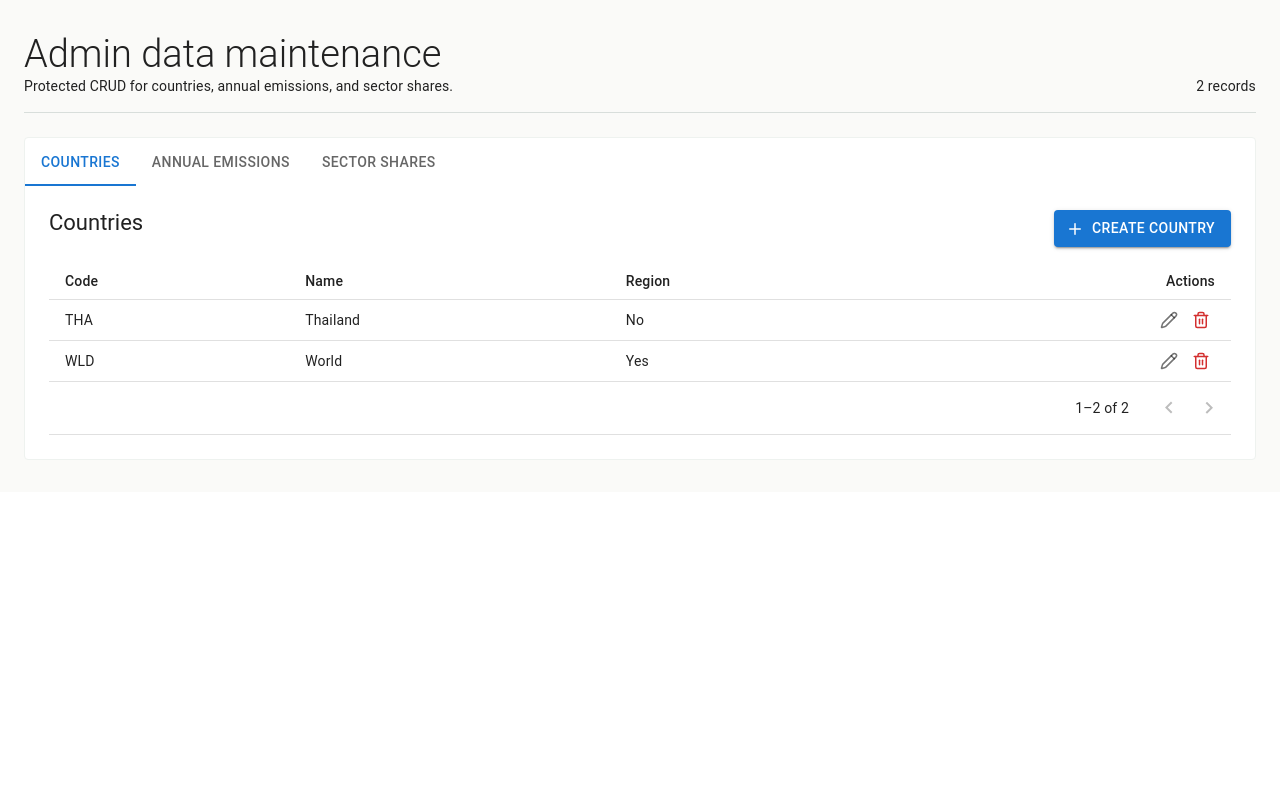
it: AdminPageClient › shows shared API error codes when mutations fail
Expected: the text "Thailand" is shown, [289,299,610,340]
Click the button "Create country".
click(1142, 229)  # box [1054,210,1231,247]
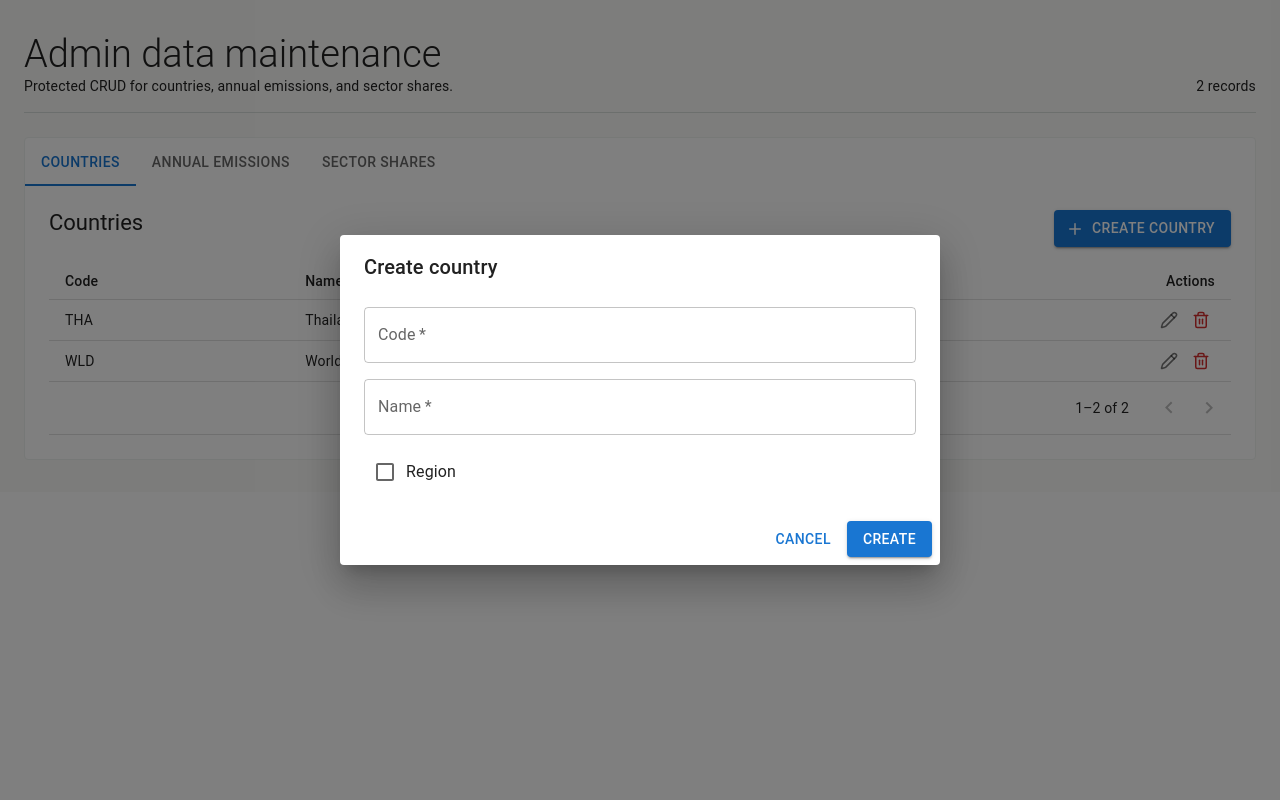
Type "THA" into the field labelled "Code *".
click(640, 335); type("THA")  # box [364,307,916,363]
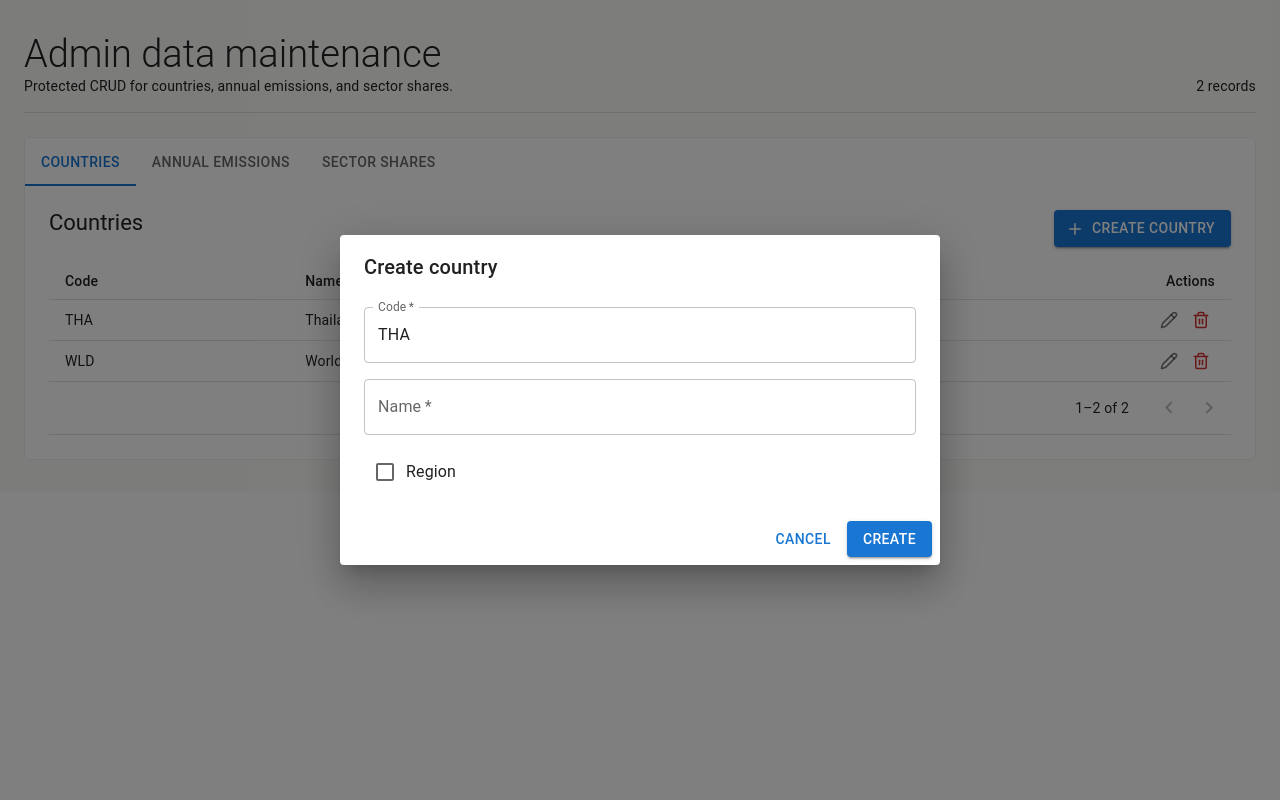
Type "Thailand" into the field labelled "Name *".
click(640, 407); type("Thailand")  # box [364,379,916,435]
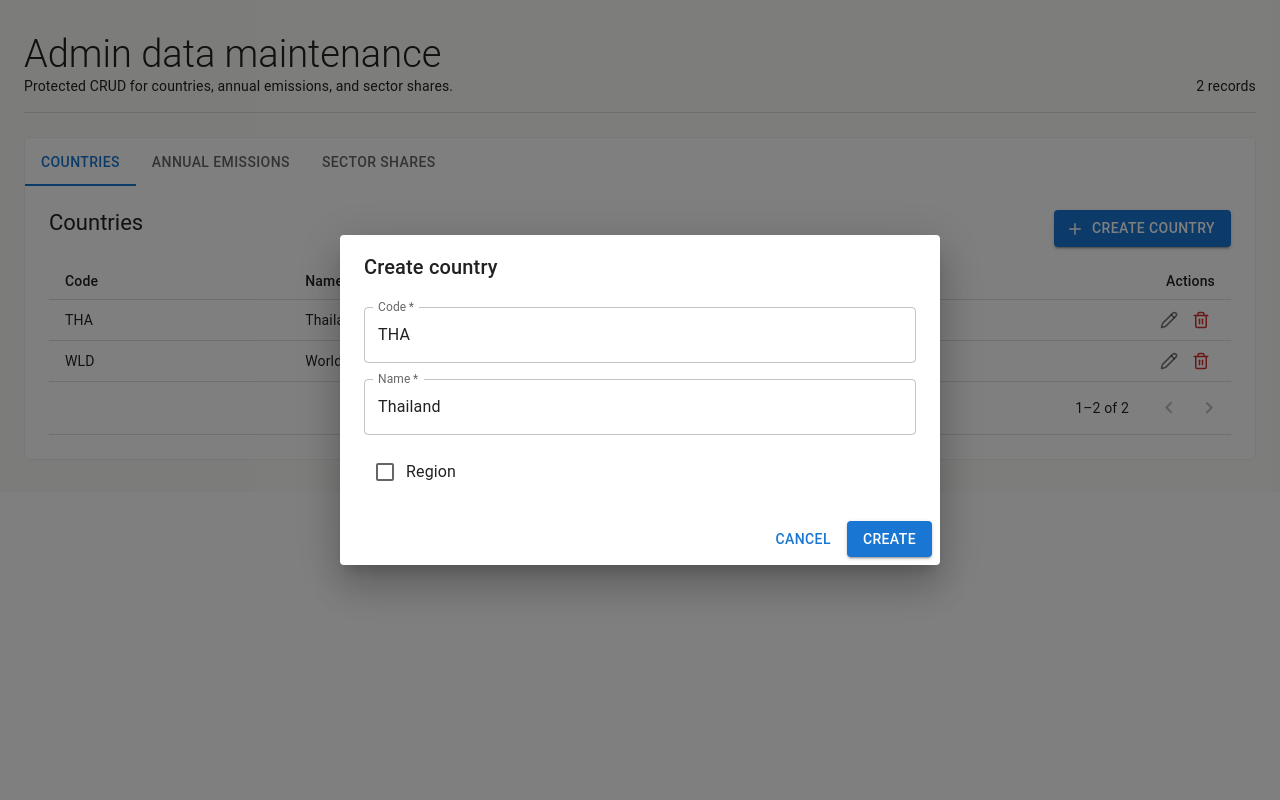
Click the button "Create".
click(889, 539)  # box [847,521,932,557]
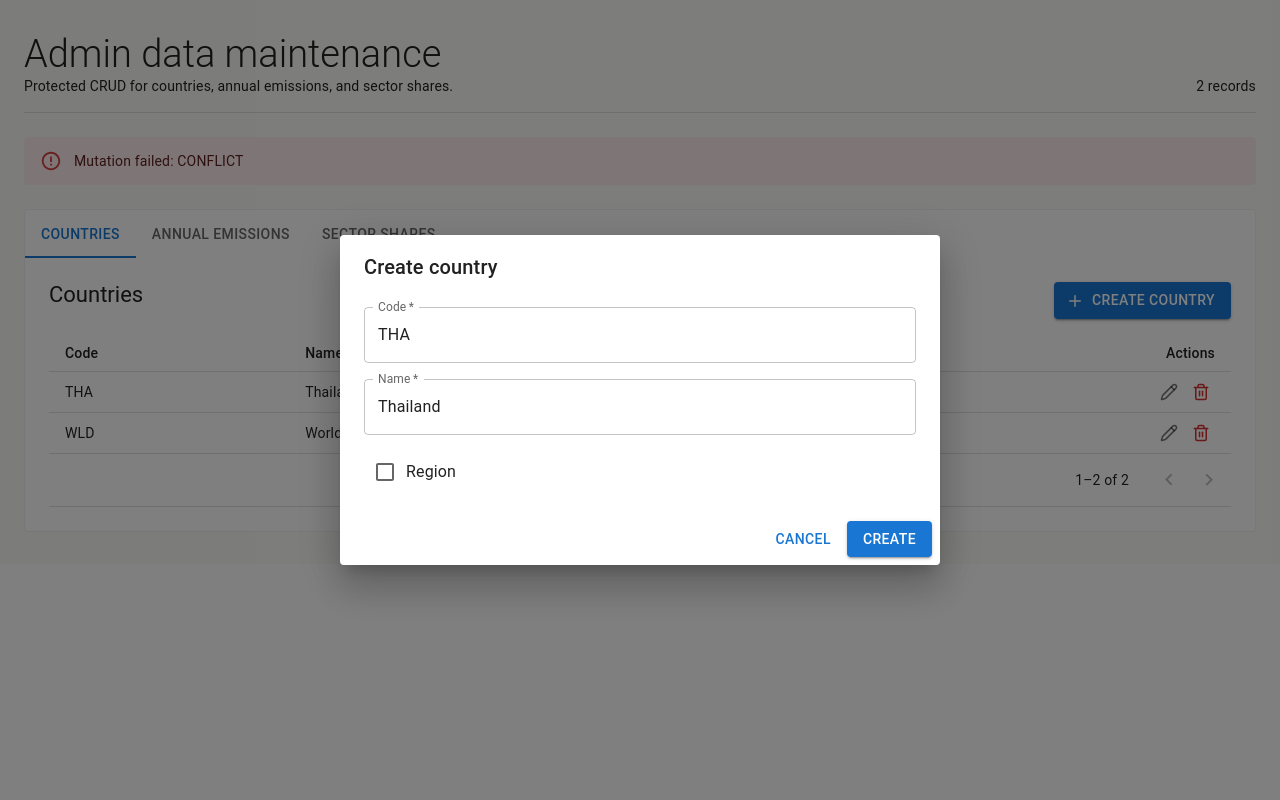
Result: the text "Mutation failed: CONFLICT" is shown at [74,153,244,169]
